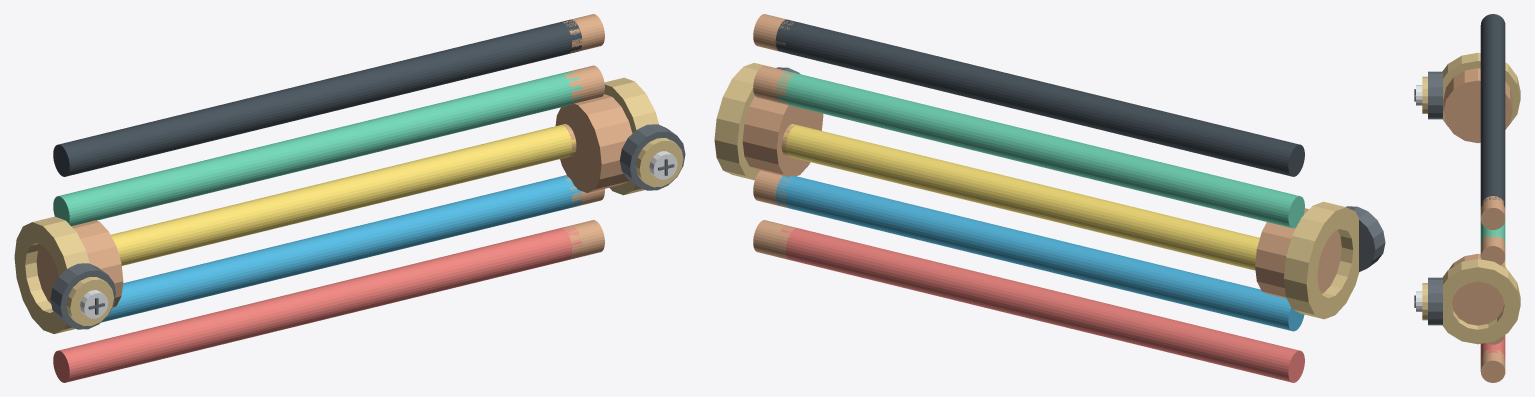
The model's file is cableSegment.glb.
3 views of the same model, side by side, from view 1: azimuth 30°, elevation 25°; view 2: azimuth 150°, elevation 25°; view 3: azimuth 270°, elevation 25° (orthographic). The views are drawn at different scales.
Parts seen in each view (by area): view 1: cableSegment-preview; view 2: cableSegment-preview; view 3: cableSegment-preview.
Part boxes in pixels (x1,y1,x2,y2): cableSegment-preview: [14, 14, 685, 382]; cableSegment-preview: [714, 14, 1385, 382]; cableSegment-preview: [1414, 14, 1520, 382].
Size of the model in its own units: 3.52 by 1.27 by 0.699.
